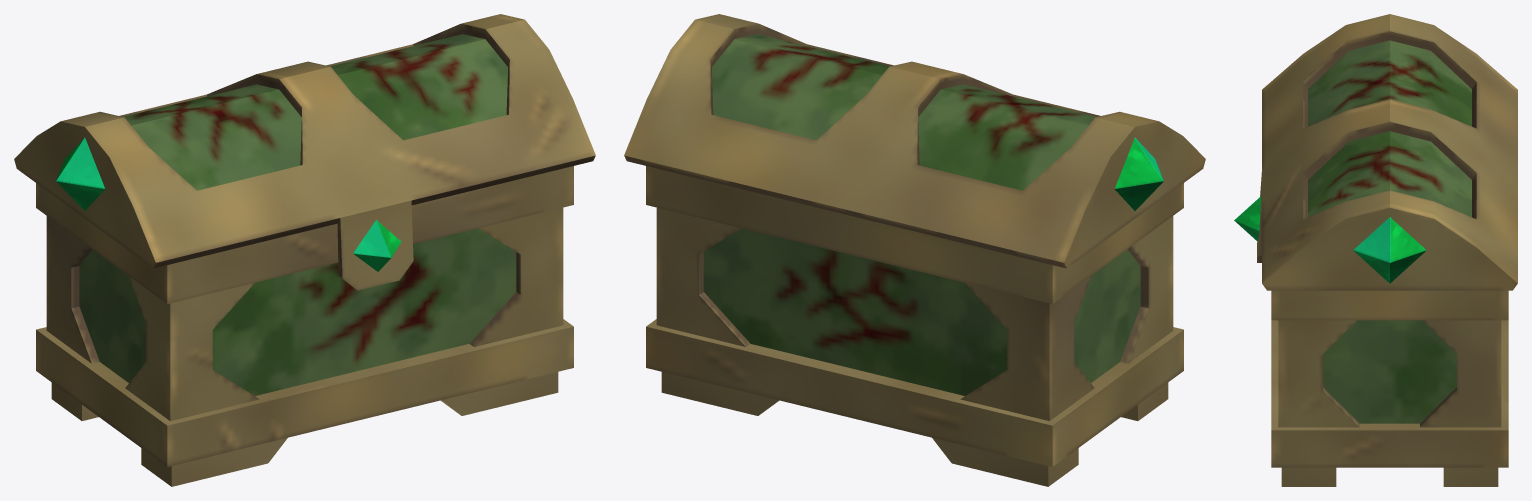
File: SM_RareChest.fbx
3 renders of one model, left to right at view 1: azimuth 30°, elevation 25°; view 2: azimuth 150°, elevation 25°; view 3: azimuth 270°, elevation 25°, orthographic. The views are drawn at different scales.
Visible parts, largest first — view 1: Cube.015, Plane.001; view 2: Cube.015, Plane.001; view 3: Plane.001, Cube.015.
Part boxes in pixels (bbox=[...]): Cube.015: bbox=[36, 166, 573, 486]; Plane.001: bbox=[14, 14, 595, 290]; Cube.015: bbox=[646, 166, 1183, 486]; Plane.001: bbox=[624, 14, 1205, 268]; Plane.001: bbox=[1234, 14, 1517, 290]; Cube.015: bbox=[1271, 290, 1508, 486].
Bounding box in the file's own units: 465 × 288 × 255.
